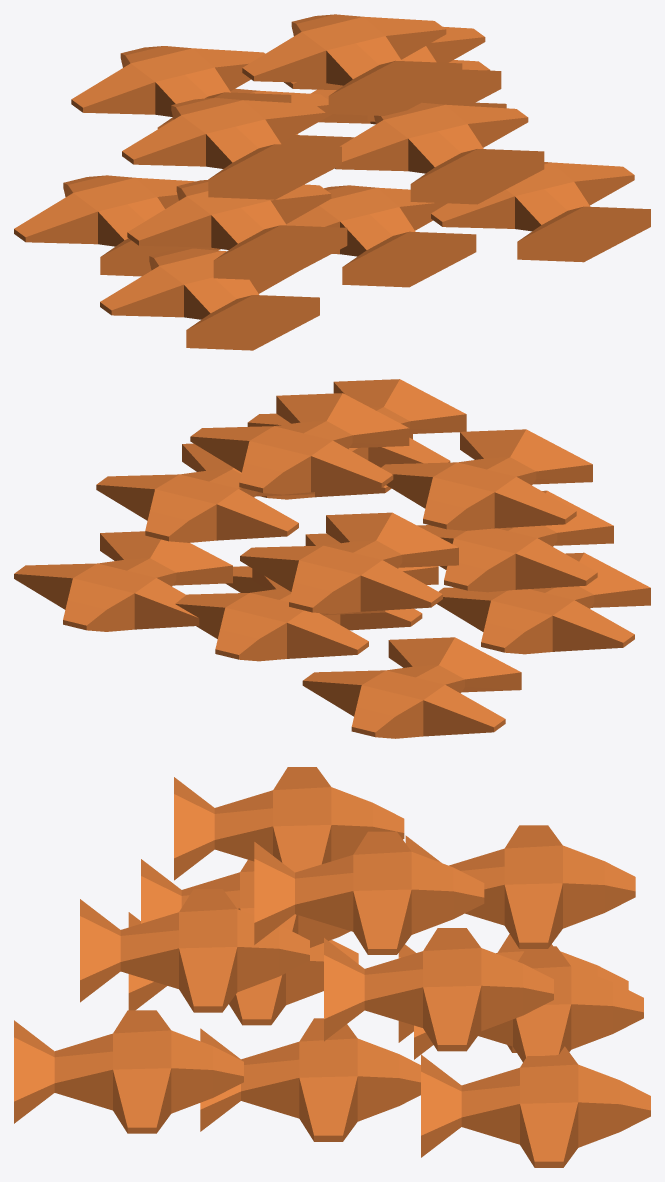
The model's file is birds.glb.
3 views of the same model, one above another, from view 1: azimuth 30°, elevation 25°; view 2: azimuth 150°, elevation 25°; view 3: azimuth 270°, elevation 25° (orthographic). The views are drawn at different scales.
Parts seen in each view (by area): view 1: Cube.002, Cube.007, Cube.001, Cube.003, Cube.010, Cube.011, Cube, Cube.009, Cube.004, Cube.006, Cube.008, Cube.005; view 2: Cube.009, Cube.007, Cube.004, Cube.002, Cube.005, Cube.011, Cube.006, Cube.003, Cube.008, Cube.001, Cube, Cube.010; view 3: Cube.007, Cube.006, Cube.010, Cube.005, Cube.001, Cube.002, Cube, Cube.004, Cube.008, Cube.011, Cube.003, Cube.009.
Part boxes in pixels (x1=…): Cube.002: x1=122, y1=97, x2=341, y2=199; Cube.007: x1=242, y1=14, x2=462, y2=115; Cube.001: x1=335, y1=102, x2=544, y2=204; Cube.003: x1=127, y1=180, x2=347, y2=280; Cube.010: x1=431, y1=162, x2=650, y2=262; Cube.011: x1=100, y1=248, x2=319, y2=350; Cube: x1=286, y1=185, x2=476, y2=287; Cube.009: x1=14, y1=175, x2=220, y2=276; Cube.004: x1=71, y1=46, x2=291, y2=128; Cube.006: x1=284, y1=26, x2=501, y2=121; Cube.008: x1=230, y1=88, x2=354, y2=146; Cube.005: x1=311, y1=60, x2=506, y2=124; Cube.009: x1=302, y1=637, x2=521, y2=738; Cube.007: x1=190, y1=393, x2=409, y2=494; Cube.004: x1=240, y1=512, x2=458, y2=613; Cube.002: x1=381, y1=429, x2=592, y2=530; Cube.005: x1=14, y1=531, x2=232, y2=631; Cube.011: x1=437, y1=552, x2=650, y2=654; Cube.006: x1=96, y1=443, x2=314, y2=542; Cube.003: x1=417, y1=490, x2=613, y2=592; Cube.008: x1=175, y1=568, x2=385, y2=661; Cube.001: x1=247, y1=379, x2=466, y2=467; Cube: x1=226, y1=533, x2=438, y2=630; Cube.010: x1=261, y1=434, x2=412, y2=499; Cube.007: x1=254, y1=831, x2=484, y2=954; Cube.006: x1=324, y1=928, x2=553, y2=1051; Cube.010: x1=14, y1=1010, x2=243, y2=1133; Cube.005: x1=421, y1=1046, x2=650, y2=1167; Cube.001: x1=80, y1=889, x2=309, y2=1012; Cube.002: x1=174, y1=767, x2=404, y2=880; Cube: x1=200, y1=1018, x2=420, y2=1141; Cube.004: x1=405, y1=825, x2=635, y2=948; Cube.008: x1=414, y1=946, x2=643, y2=1062; Cube.011: x1=128, y1=912, x2=358, y2=1025; Cube.003: x1=141, y1=859, x2=350, y2=947; Cube.009: x1=398, y1=934, x2=628, y2=1052.
Bounding box in the file's own units: 8.18 × 3.42 × 7.28.
